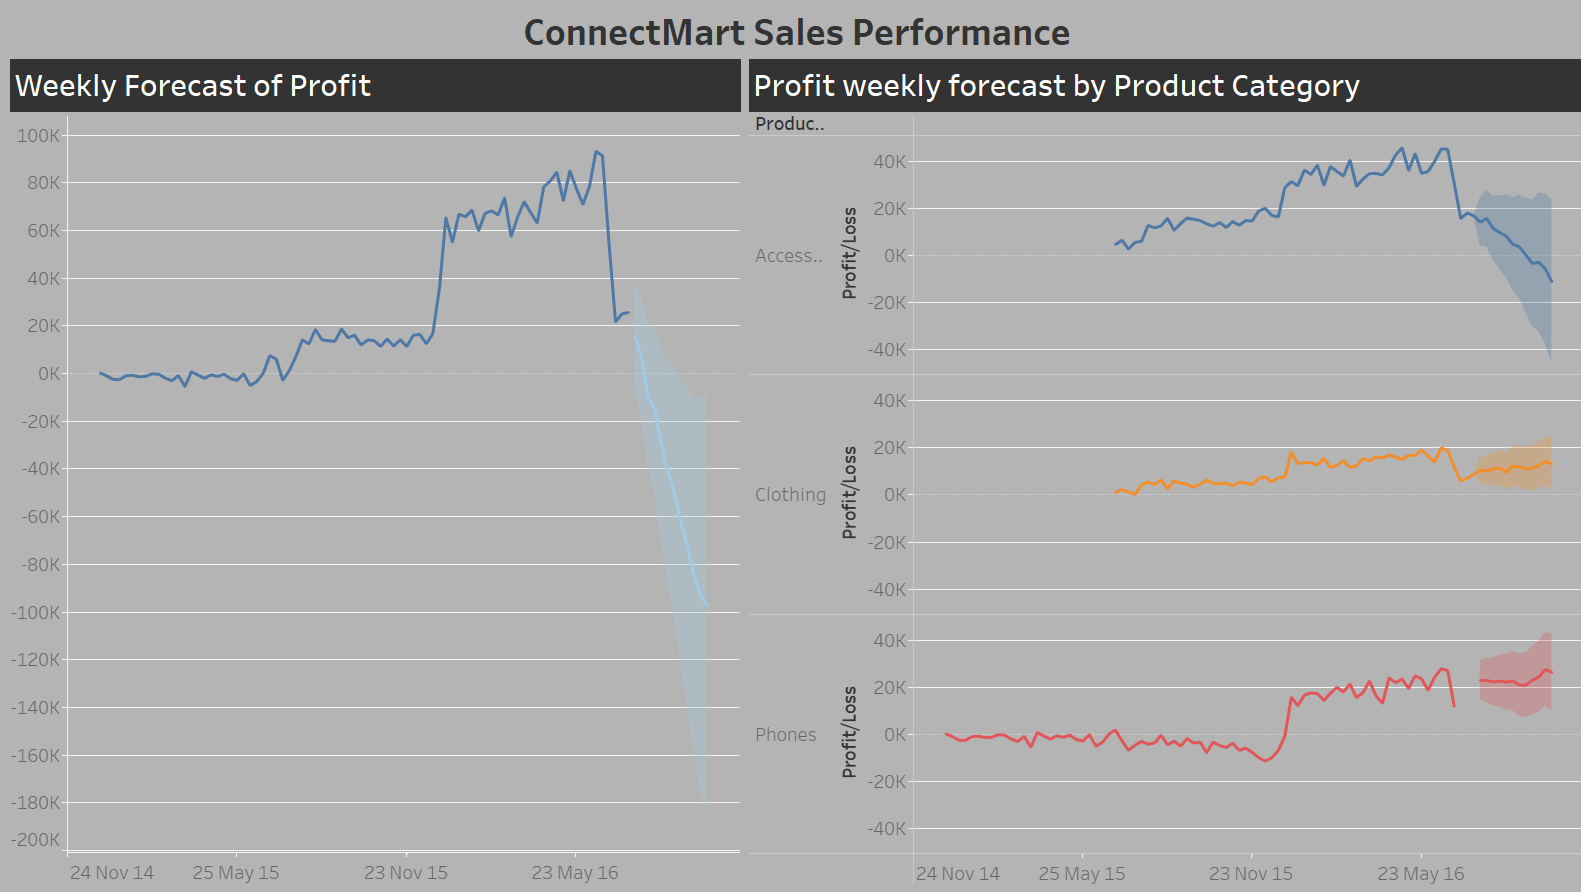

What the dashboard file says about the page in this screenshot:
{"tool":"tableau","page":{"name":"Forecast Dashboard","canvas":[1600,900],"ordinal":1},"visuals":[{"type":"title","box":[8,8,1584,49]},{"type":"worksheet","title":"Weekly Forecast of Profit","mark":"Automatic","rows":["Calculation_1608066588141301764"],"cols":["Date"],"box":[8,57,740,835]},{"type":"worksheet","title":"Profit weekly forecast by Product Category","mark":"Automatic","rows":["Product_Category","Calculation_1608066588141301764"],"cols":["Date"],"box":[748,57,844,835]}]}

Visuals, with their boxes in screenshot pixels (x1, y1, x2, y2), scaled from the page's 1600x900 canvas onto the 1583x892 screenshot:
title: 8:8:1575:56
"Weekly Forecast of Profit" worksheet: 8:56:740:884
"Profit weekly forecast by Product Category" worksheet: 740:56:1575:884
